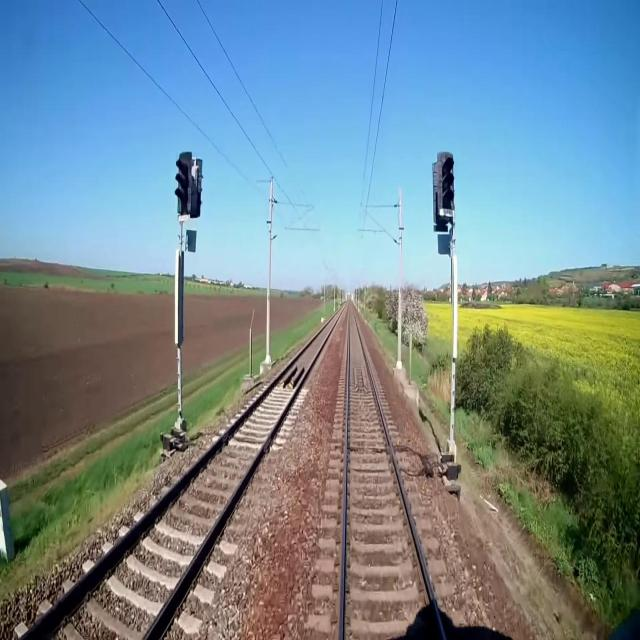rail-track: (25, 312, 339, 639), (343, 306, 442, 639)
